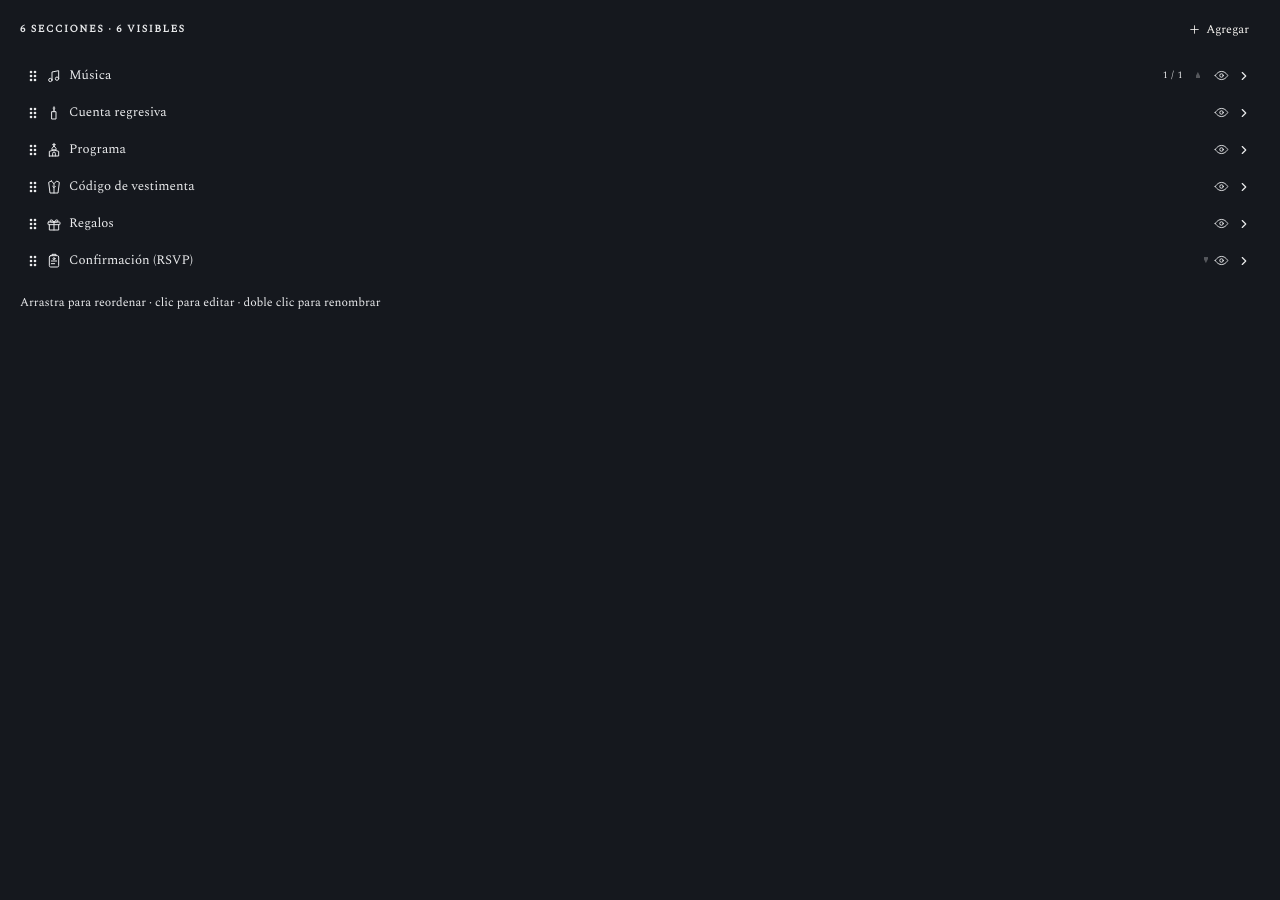
Test: SectionsTab — the inspector › replaces the list rather than appearing below it
Check: the list is shown, box top-left (20, 59), bottom-right (1260, 277)
Step 1. Click the button "Programa" → (97, 149), box top-left (69, 139), bottom-right (1189, 160)
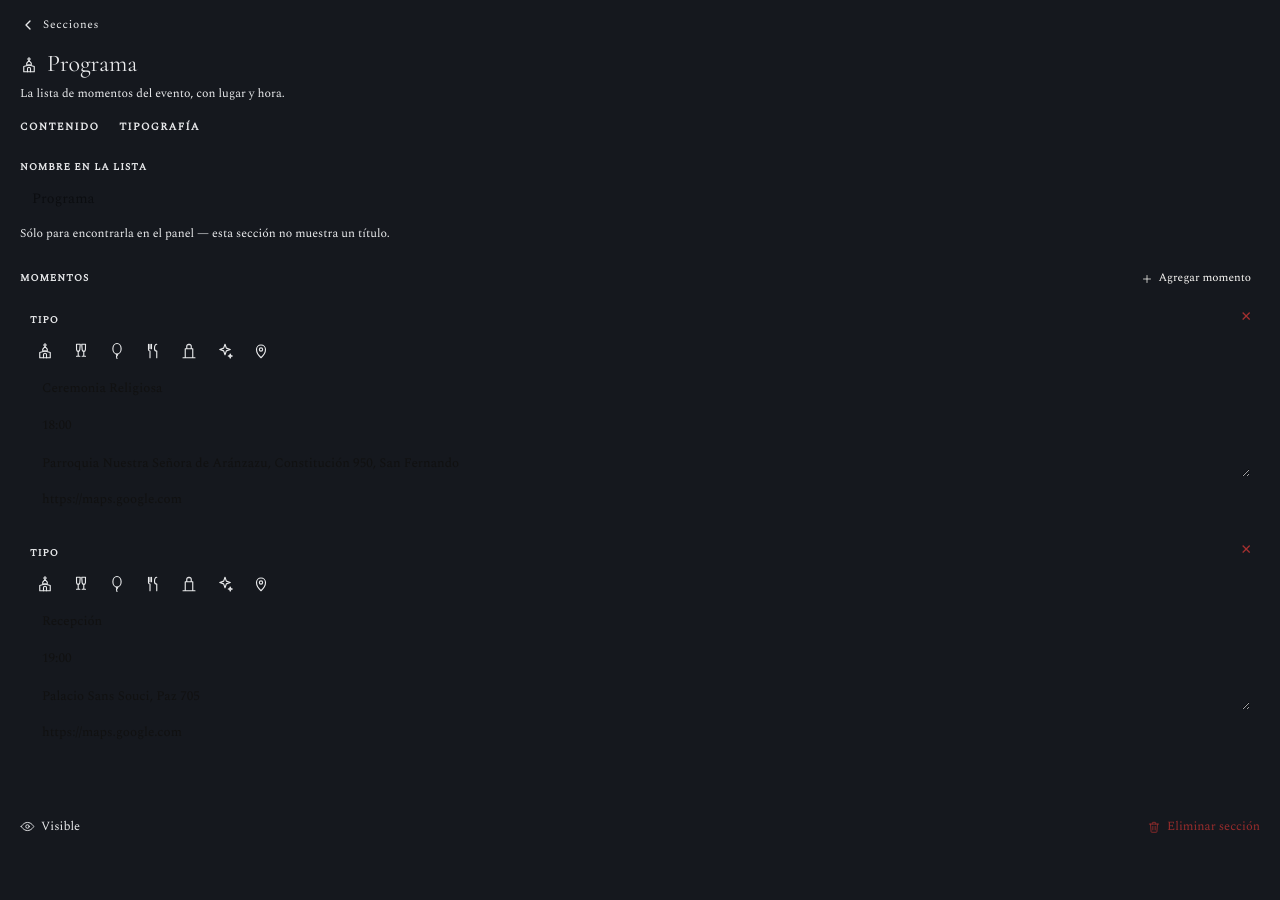
Check: the list is gone
